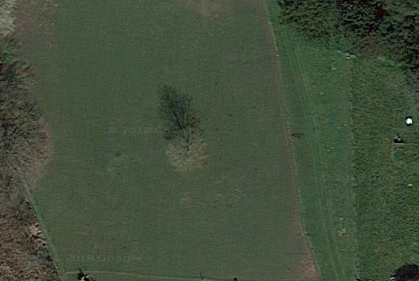tree: (154, 122, 213, 176)
